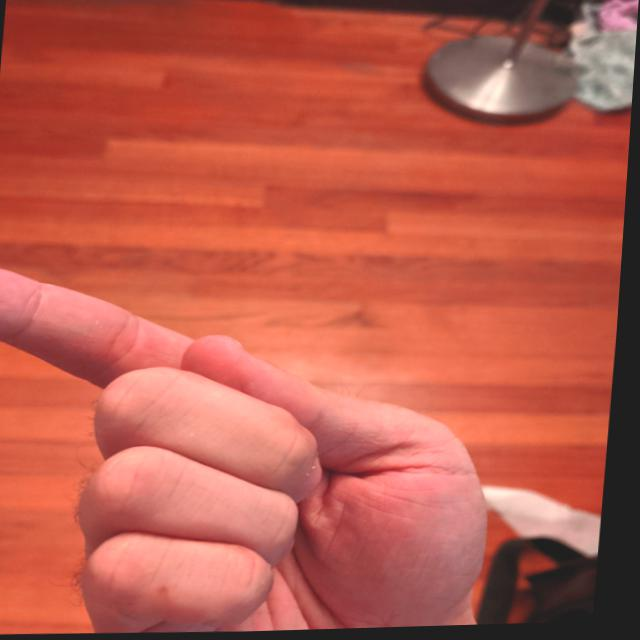G: (0, 234, 533, 639)
